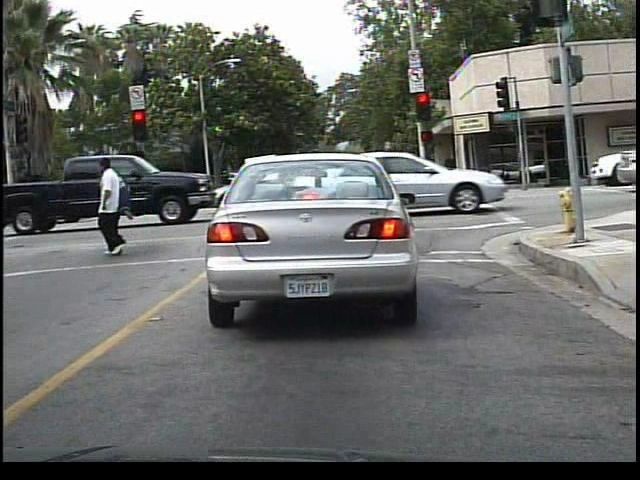person: (91, 154, 143, 255)
